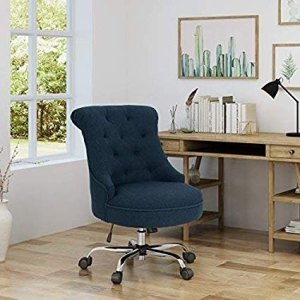chair: (69, 106, 204, 285)
